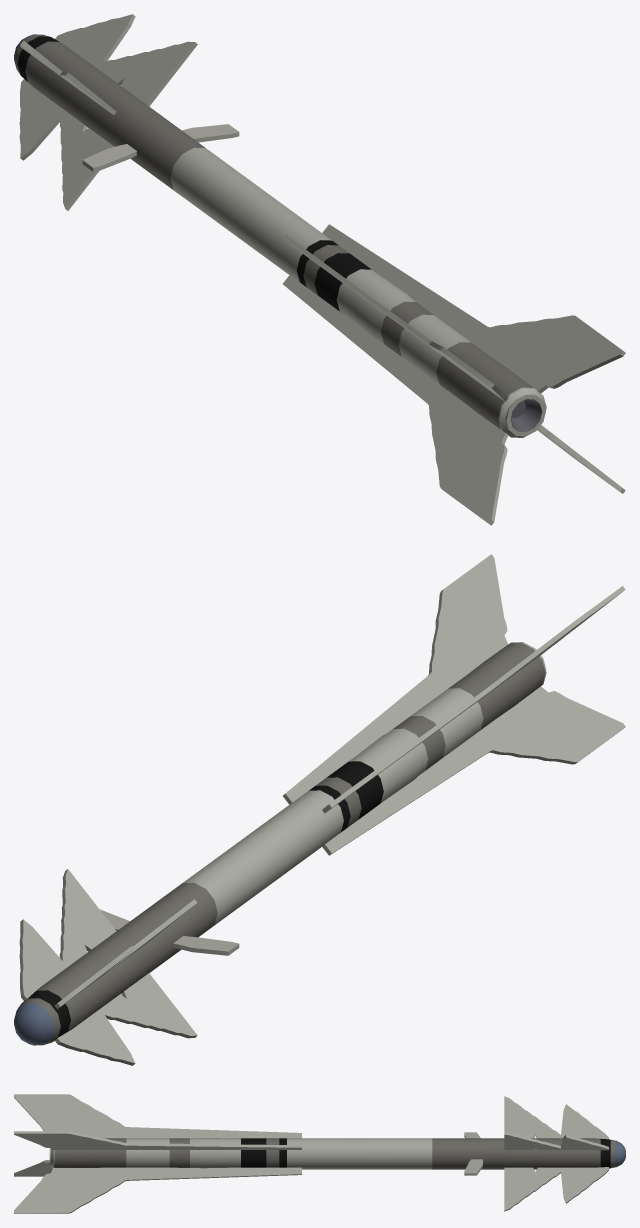
File: python4.glb
3 renders of one model, top to bottom at view 1: azimuth 30°, elevation 25°; view 2: azimuth 150°, elevation 25°; view 3: azimuth 270°, elevation 25°, orthographic. The views are drawn at different scales.
Parts seen in each view (by area): view 1: python4; view 2: python4; view 3: python4.
Boxes of the visible parts, x1=… form: python4: x1=14, y1=14, x2=625, y2=525; python4: x1=14, y1=554, x2=625, y2=1065; python4: x1=14, y1=1094, x2=625, y2=1213.
Bounding box in the file's own units: 0.5009 × 0.4705 × 3.15.
